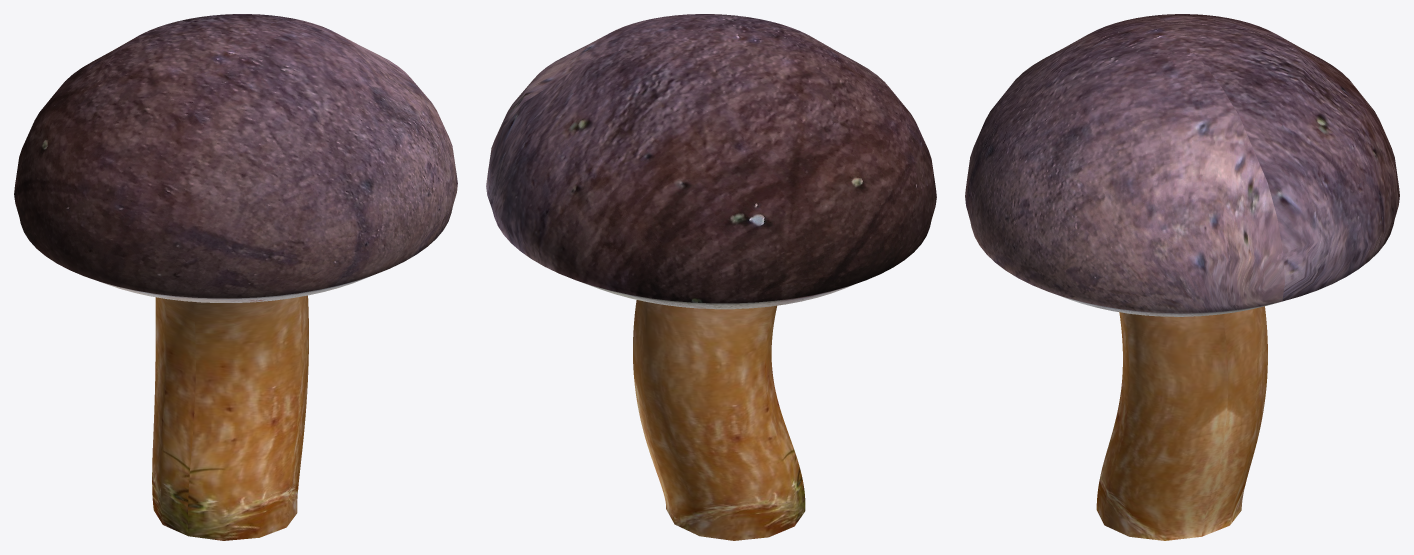
The model's file is Marronenroehrling.glb.
The picture shows the model from 3 angles, left to right: view 1: azimuth 30°, elevation 25°; view 2: azimuth 150°, elevation 25°; view 3: azimuth 270°, elevation 25°; orthographic projection. The views are drawn at different scales.
Visible parts, largest first — view 1: Sphere; view 2: Sphere; view 3: Sphere.
Part boxes in pixels (x1,y1,x2,y2): Sphere: (14,14,457,540); Sphere: (486,14,936,540); Sphere: (965,14,1399,540).
Bounding box in the file's own units: 0.4285 × 0.4865 × 0.4024.
Materials: 3 (3 with a texture image).
